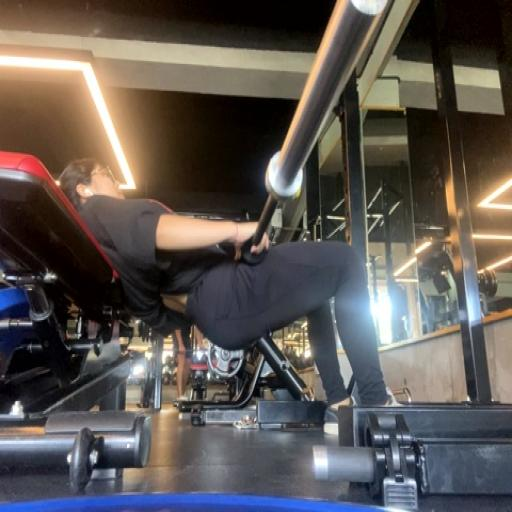exercise: (56, 154, 406, 416)
